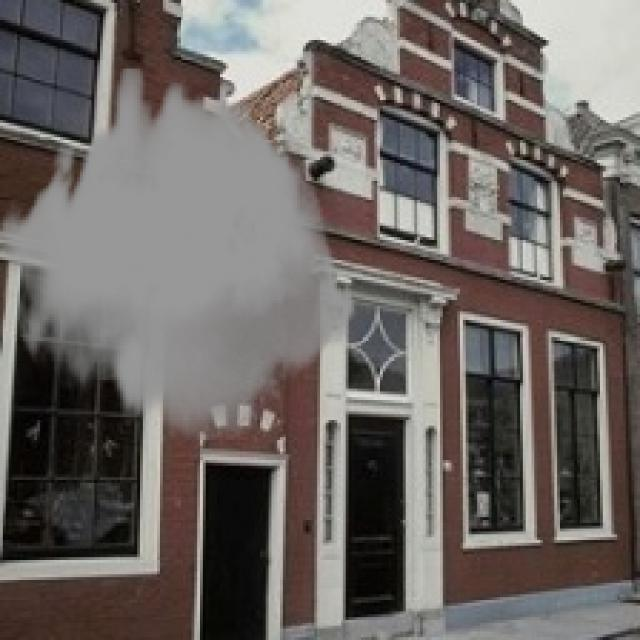Smoke: (0, 68, 357, 440)
